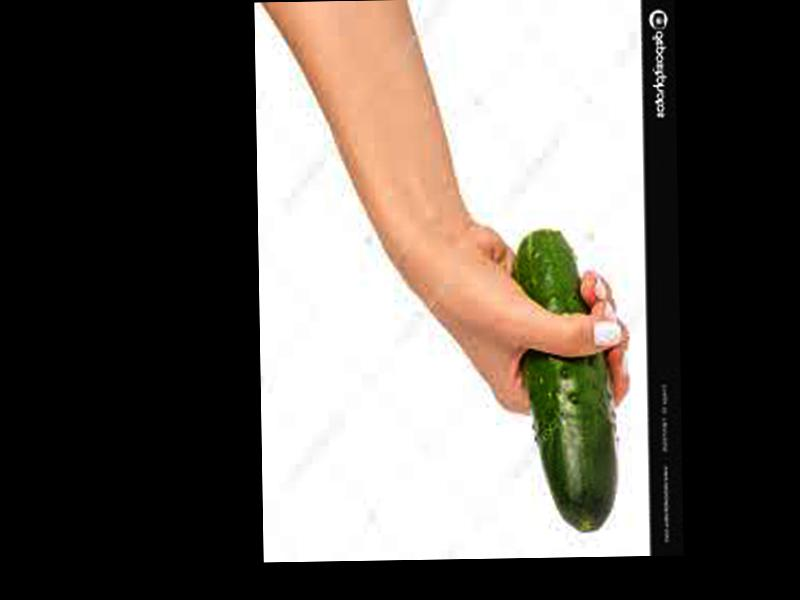Cucumber: (514, 230, 618, 536)
